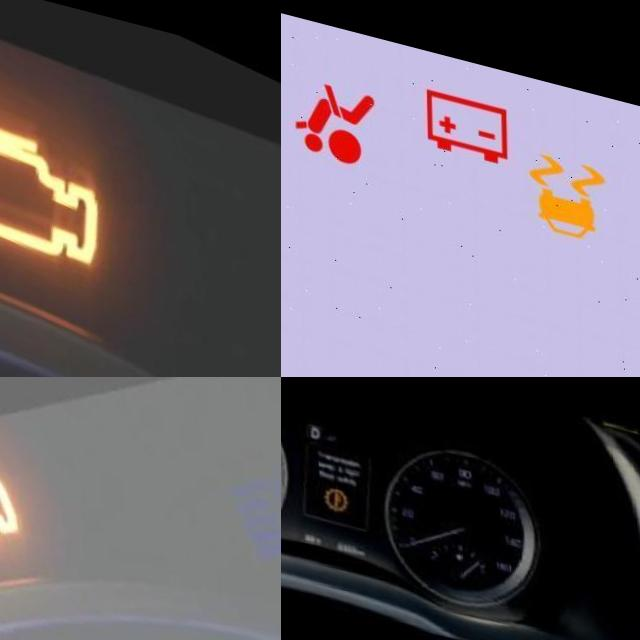Low fuel level: (458, 534, 464, 541)
